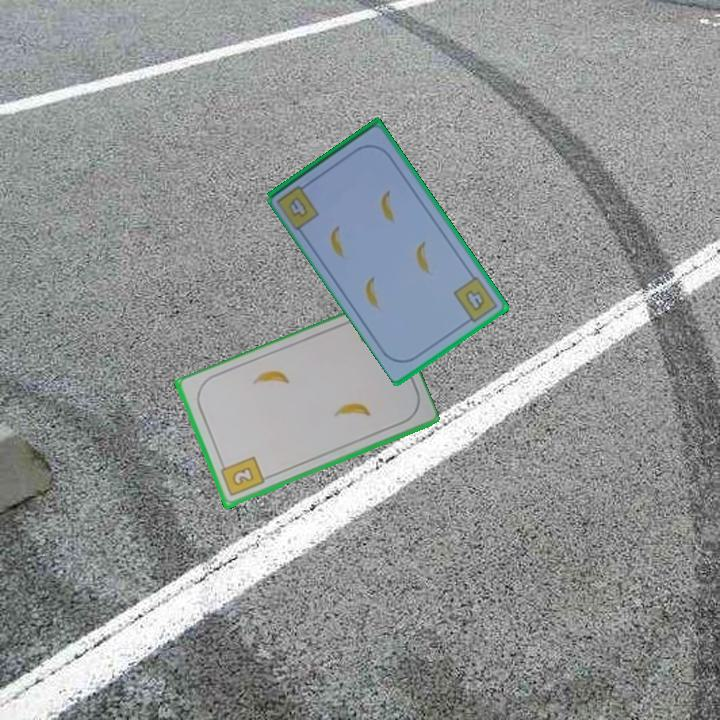2b: (217, 453, 267, 499)
4b: (450, 273, 501, 327), (285, 193, 311, 221)
